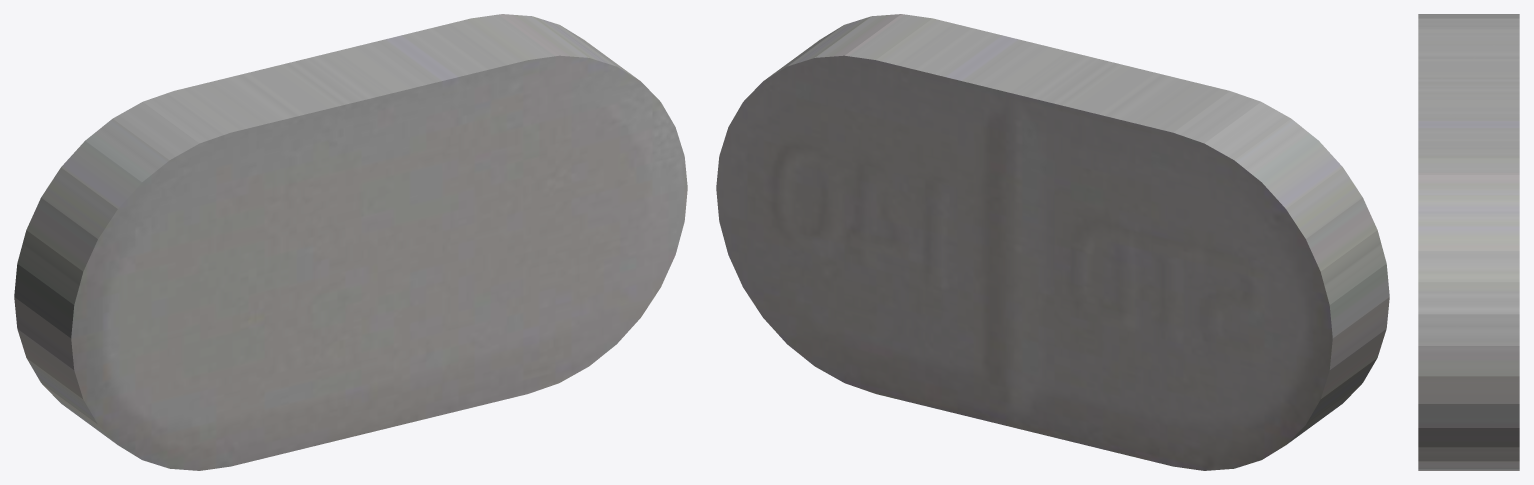
Rendered from 20140311GOPHDRGPT01252.fbx.
3 views of the same model, side by side, from view 1: azimuth 30°, elevation 25°; view 2: azimuth 150°, elevation 25°; view 3: azimuth 270°, elevation 25° (orthographic). The views are drawn at different scales.
Parts seen in each view (by area): view 1: Cylinder; view 2: Cylinder; view 3: Cylinder.
Part boxes in pixels (x1,y1,x2,y2): Cylinder: (14,14,687,470); Cylinder: (716,14,1389,470); Cylinder: (1418,14,1519,470).
Bounding box in the file's own units: 0.9991 × 0.517 × 0.16.
Materials: 1 (1 with a texture image).
